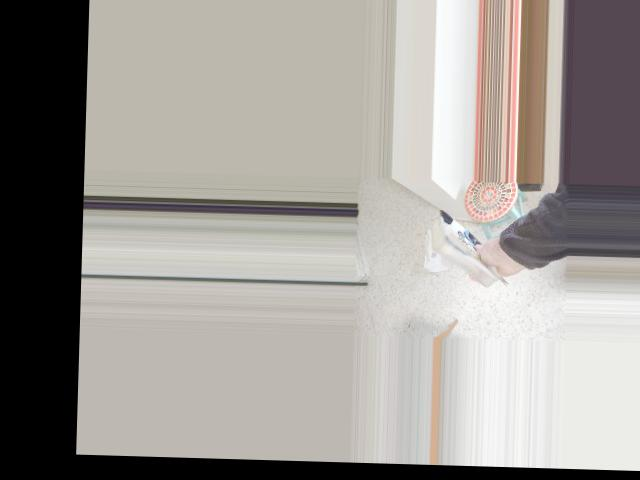cheese: (416, 197, 524, 297)
